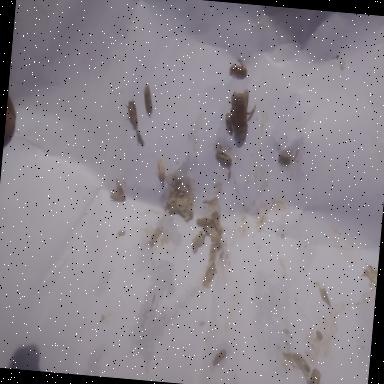pbw: (120, 98, 140, 130), (202, 260, 219, 292), (109, 180, 129, 206), (142, 84, 154, 114), (212, 346, 228, 368), (224, 112, 236, 138), (155, 157, 168, 181), (215, 150, 233, 167), (210, 214, 224, 234), (195, 216, 214, 228), (205, 227, 221, 241)
